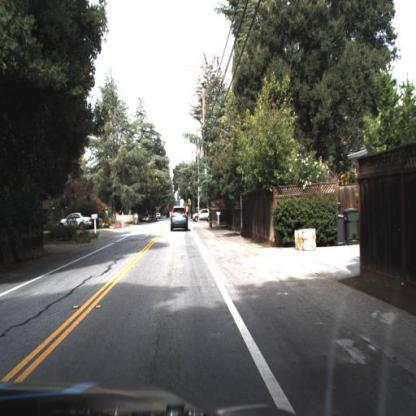car: (62, 212, 94, 231), (171, 204, 191, 234), (191, 203, 213, 223)
